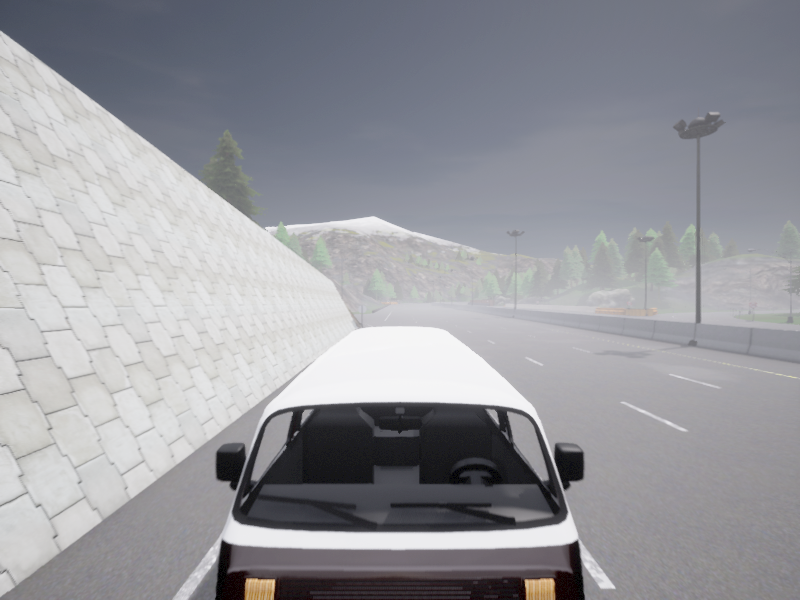vehicle: (215, 327, 584, 599)
